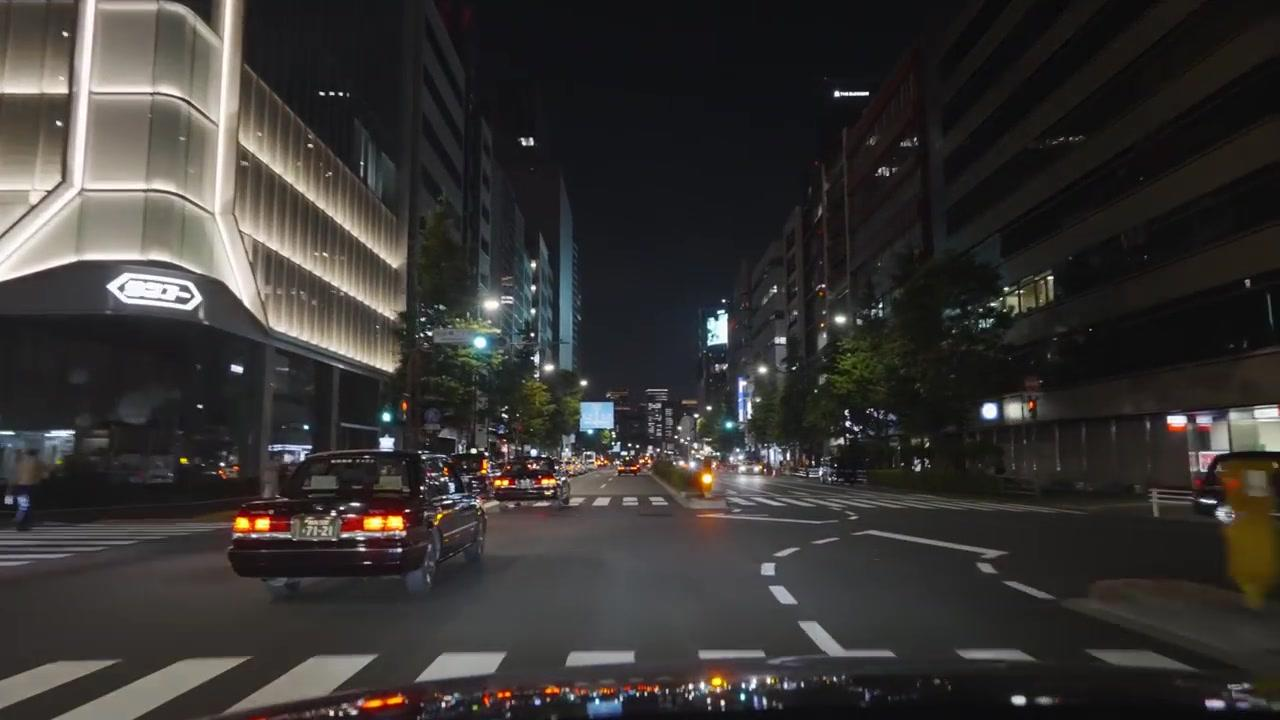car: (227, 448, 488, 601), (1192, 450, 1280, 519), (490, 458, 572, 506), (447, 451, 492, 502), (686, 458, 717, 495), (616, 458, 641, 475)
person: (10, 446, 42, 532)
traffic light: (470, 334, 494, 354), (379, 399, 395, 429), (399, 394, 410, 423), (1026, 396, 1038, 418), (721, 418, 735, 433)
